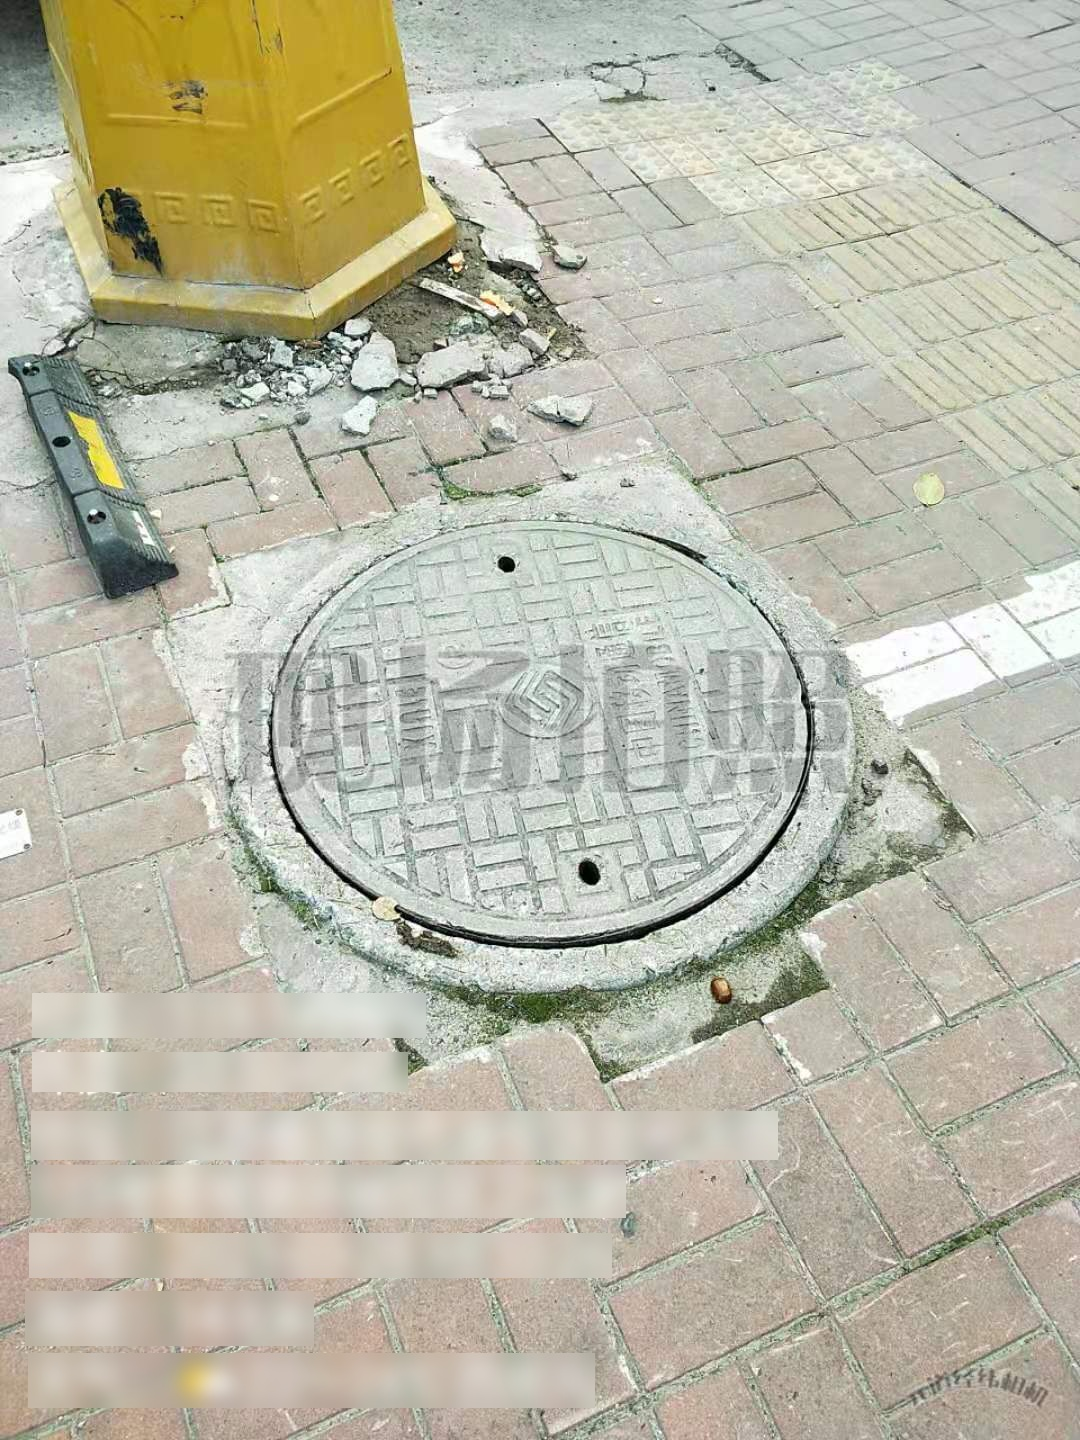good: (225, 497, 859, 994)
